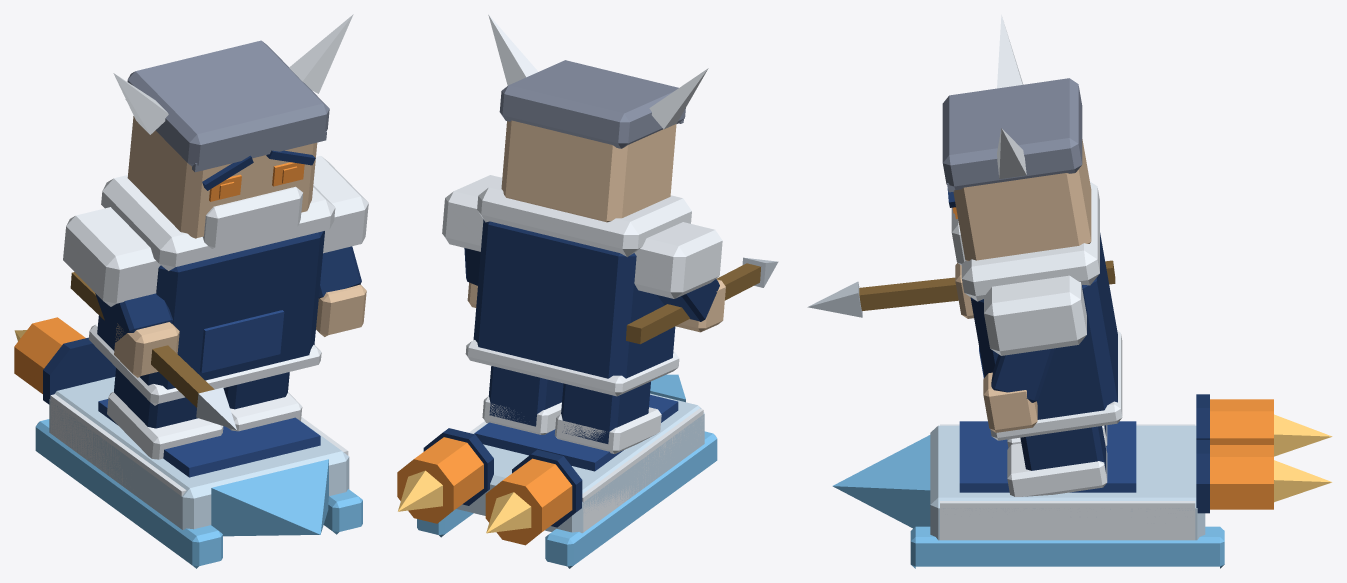
Rendered from r2_mini_sled_rider.glb.
The picture shows the model from 3 angles, left to right: view 1: azimuth 30°, elevation 25°; view 2: azimuth 150°, elevation 25°; view 3: azimuth 270°, elevation 25°; orthographic projection. The views are drawn at different scales.
Visible parts, largest first — view 1: r2_mini_sled_rider_mesh; view 2: r2_mini_sled_rider_mesh; view 3: r2_mini_sled_rider_mesh.
Boxes of the visible parts, left/top/right/bottom form: r2_mini_sled_rider_mesh: left=14, top=14, right=368, bottom=568; r2_mini_sled_rider_mesh: left=397, top=14, right=778, bottom=568; r2_mini_sled_rider_mesh: left=807, top=14, right=1332, bottom=568.
Size of the model in its own units: 2.61 by 4.5 by 4.66.
1 material, 1 textured.
